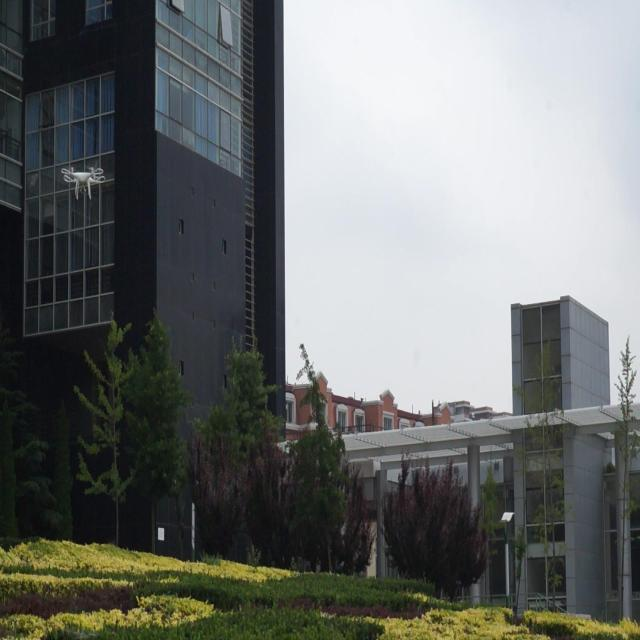drone: (60, 160, 108, 204)
